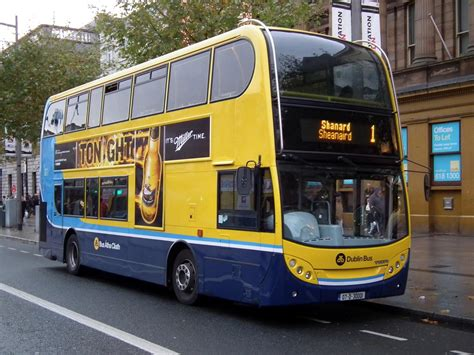bus: (40, 39, 411, 308)
